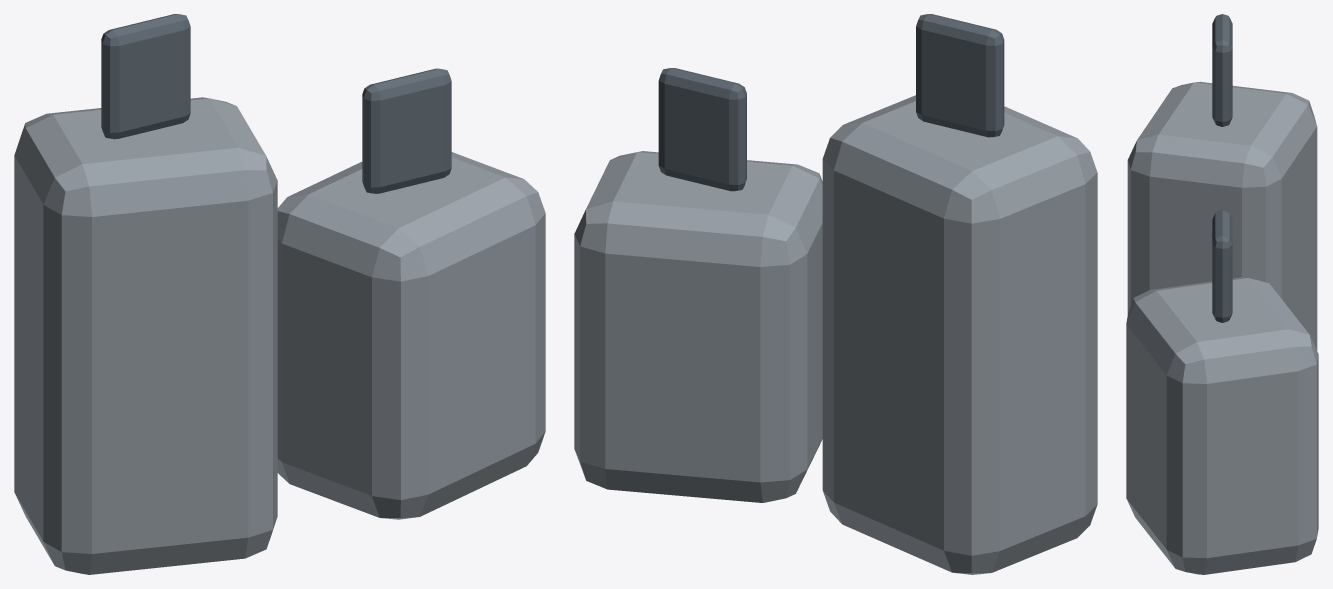
File: 5_Detail.fbx
3 views of the same model, side by side, from view 1: azimuth 30°, elevation 25°; view 2: azimuth 150°, elevation 25°; view 3: azimuth 270°, elevation 25° (orthographic). The views are drawn at different scales.
Visible parts, largest first — view 1: Body; view 2: Body; view 3: Body.
Part boxes in pixels (x1,y1,x2,y2): Body: (14, 14, 545, 574); Body: (574, 14, 1097, 574); Body: (1126, 14, 1318, 574).
Bounding box in the file's own units: 1.13 × 1.14 × 0.4804.
